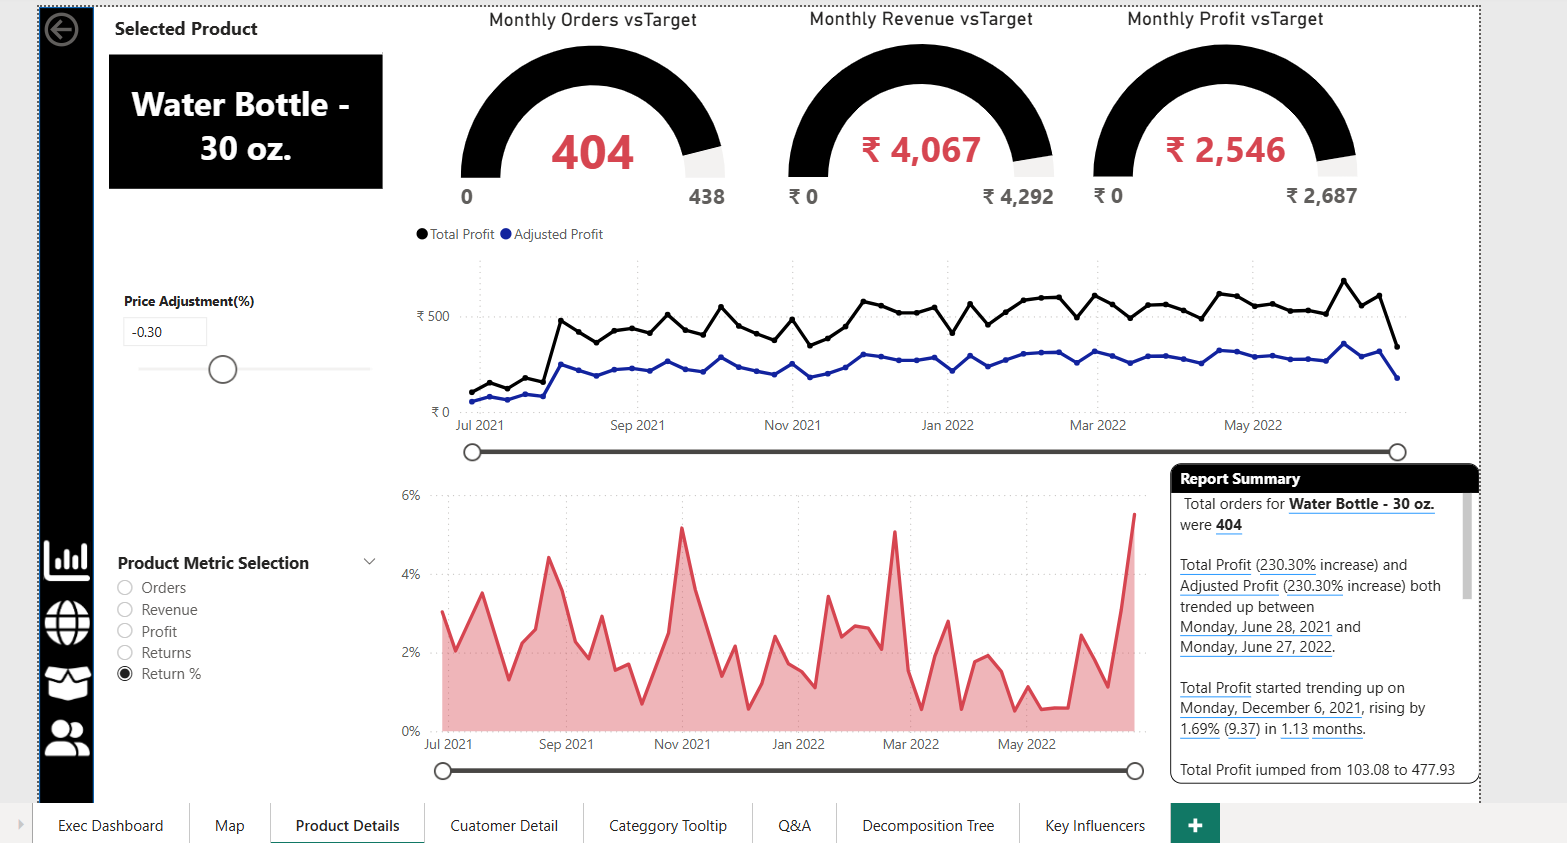

The dashboard page shown, as its layout file describes it:
{"tool":"powerbi","page":{"name":"Product Details","canvas":[1280,720],"ordinal":2},"visuals":[{"type":"shape","box":[0,0,48.8,720.2],"z":0},{"type":"actionButton","box":[0,460.8,49.4,62],"z":0,"group":"g1"},{"type":"gauge","title":"Monthly Orders vsTarget","fields":{"Y":["Measure Table.Total Orders"],"MaxValue":["Measure Table.Order Target"]},"box":[370.4,1.4,245.1,200],"z":1000},{"type":"actionButton","box":[1.6,523.2,68.4,48.1],"z":1000,"group":"g1"},{"type":"gauge","title":"Monthly Profit vsTarget","fields":{"Y":["Measure Table.Total Profit"],"MaxValue":["Measure Table.Profit Target"]},"box":[932.4,0,245.1,200],"z":2000},{"type":"actionButton","box":[1.3,576,68.4,49.4],"z":2000,"group":"g1"},{"type":"gauge","title":"Monthly Revenue vsTarget","fields":{"Y":["Measure Table.Total Revenue"],"MaxValue":["Measure Table.Revenue Target"]},"box":[660.6,0,246.5,200],"z":3000},{"type":"actionButton","box":[1.3,625.4,100,48.1],"z":3000,"group":"g1"},{"type":"lineChart","title":"WEEKLY PROFIT","fields":{"Category":["Calendar Lookup.Date Hierarchy.Start of Year","Calendar Lookup.Date Hierarchy.Start of Month","Calendar Lookup.Date Hierarchy.Start of Week","Calendar Lookup.Date Hierarchy.Date"],"Y":["Measure Table.Total Profit","Measure Table.Adjusted Profit"]},"box":[329.6,181.7,908.5,223.9],"z":4000},{"type":"lineChart","title":"WEEKLY RETURNS","fields":{"Y":["Measure Table.Return Rate"],"Category":["Calendar Lookup.Date Hierarchy.Start of Year","Calendar Lookup.Date Hierarchy.Start of Month","Calendar Lookup.Date Hierarchy.Start of Week","Calendar Lookup.Date Hierarchy.Date"]},"box":[316.7,420,688.3,270],"z":5000},{"type":"actionButton","box":[0,0,100,40],"z":6000},{"type":"card","fields":{"Values":["Min(Product Lookup.ProductName)"]},"box":[61.7,40,243.3,121.7],"z":7000},{"type":"textbox","box":[61.7,1.7,243.3,40],"z":8000},{"type":"group","id":"g1","title":"Navigation Buttons","box":[0,460.8,101.3,212.7],"z":9000},{"type":"slicer","fields":{"Values":["Price Adjustment(%).Price Adjustment(%)"]},"box":[62,247.9,255.7,112.3],"z":10000},{"type":"slicer","fields":{"Values":["Product Metric Selection.Product Metric Selection"]},"box":[56.2,478.5,255.7,184],"z":11000},{"type":"textbox","title":"Report Summary","box":[1005,405,275,285],"z":12000}]}

Visuals, with their boxes on the page's 1280x720 design canvas (x1, y1, x2, y2). These are canvas units, not pixel positions in the 1567x843 screenshot, which may show the page scaled, cropped or inside an application window:
shape: BBox(0, 0, 49, 720)
actionButton: BBox(0, 461, 49, 523)
"Monthly Orders vsTarget" gauge: BBox(370, 1, 616, 201)
actionButton: BBox(2, 523, 70, 571)
"Monthly Profit vsTarget" gauge: BBox(932, 0, 1178, 200)
actionButton: BBox(1, 576, 70, 625)
"Monthly Revenue vsTarget" gauge: BBox(661, 0, 907, 200)
actionButton: BBox(1, 625, 101, 674)
"WEEKLY PROFIT" lineChart: BBox(330, 182, 1238, 406)
"WEEKLY RETURNS" lineChart: BBox(317, 420, 1005, 690)
actionButton: BBox(0, 0, 100, 40)
card - Min(Product Lookup.ProductName): BBox(62, 40, 305, 162)
textbox: BBox(62, 2, 305, 42)
"Navigation Buttons" group: BBox(0, 461, 101, 674)
slicer - Price Adjustment(%).Price Adjustment(%): BBox(62, 248, 318, 360)
slicer - Product Metric Selection.Product Metric Selection: BBox(56, 478, 312, 662)
"Report Summary" textbox: BBox(1005, 405, 1280, 690)
